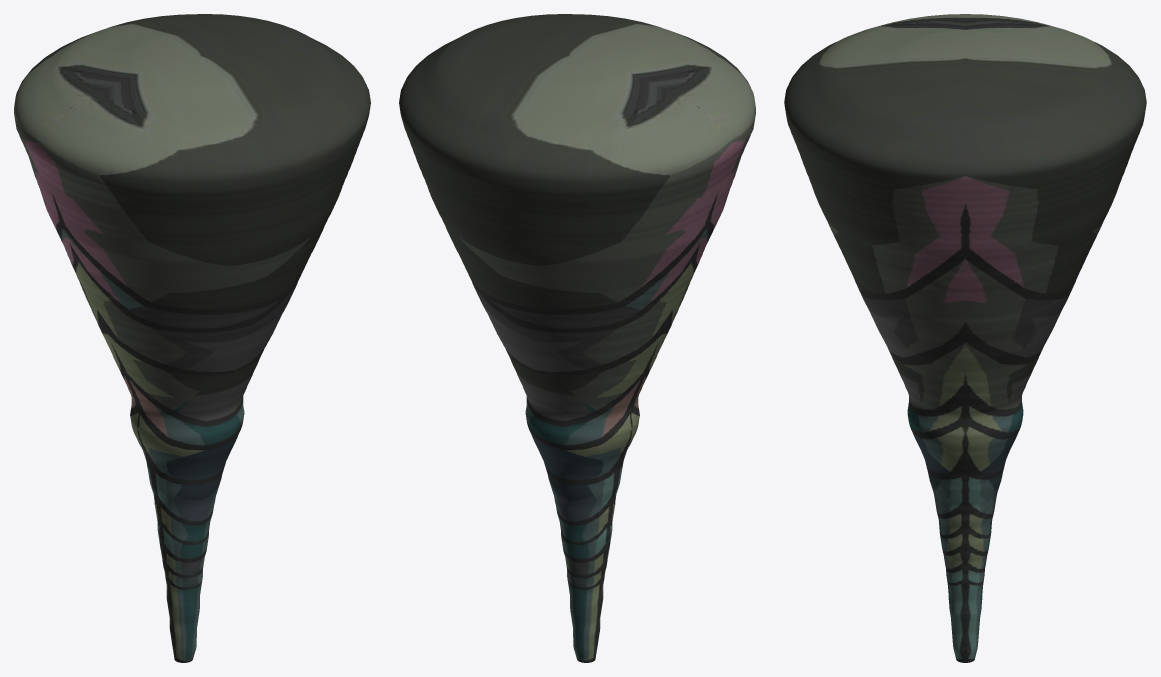
File: dark_cone.glb
The picture shows the model from 3 angles, left to right: view 1: azimuth 30°, elevation 25°; view 2: azimuth 150°, elevation 25°; view 3: azimuth 270°, elevation 25°; orthographic projection.
Visible parts, largest first — view 1: dark_cone; view 2: dark_cone; view 3: dark_cone.
Part boxes in pixels (x1,y1,x2,y2): dark_cone: [14, 14, 370, 662]; dark_cone: [399, 14, 755, 662]; dark_cone: [784, 14, 1146, 662].
Size of the model in its own units: 0.9881 by 1.83 by 0.9857.
Materials: 1 (1 with a texture image).
